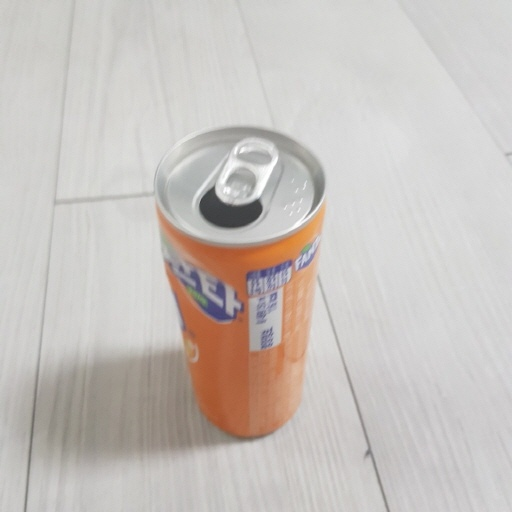Metal_0: (149, 122, 330, 441)
